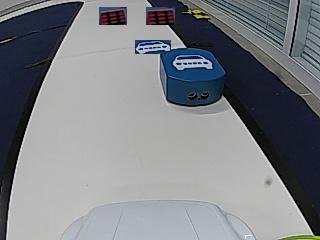safety: (172, 54, 214, 70)
